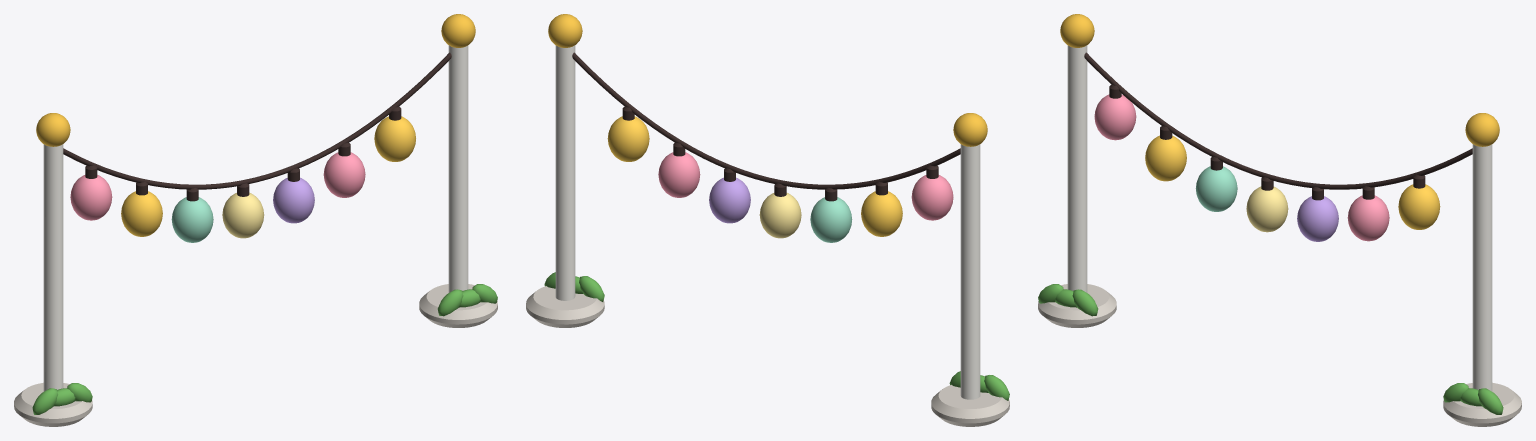
File: string_lights.fbx
The picture shows the model from 3 angles, left to right: view 1: azimuth 30°, elevation 25°; view 2: azimuth 150°, elevation 25°; view 3: azimuth 330°, elevation 25°; orthographic projection.
Visible parts, largest first — view 1: string_lights_White, string_lights_Stone, string_lights_Dark, string_lights_Yellow, string_lights_Pink, string_lights_Green, string_lights_Gold, string_lights_Glow, string_lights_Lilac, string_lights_Mint; view 2: string_lights_White, string_lights_Stone, string_lights_Dark, string_lights_Pink, string_lights_Yellow, string_lights_Gold, string_lights_Lilac, string_lights_Glow, string_lights_Mint, string_lights_Green; view 3: string_lights_White, string_lights_Stone, string_lights_Dark, string_lights_Yellow, string_lights_Pink, string_lights_Green, string_lights_Gold, string_lights_Glow, string_lights_Lilac, string_lights_Mint.
Boxes of the visible parts, x1=… form: string_lights_White: x1=43, y1=45, x2=468, y2=391; string_lights_Stone: x1=14, y1=284, x2=497, y2=426; string_lights_Dark: x1=63, y1=52, x2=451, y2=201; string_lights_Yellow: x1=121, y1=116, x2=415, y2=236; string_lights_Pink: x1=70, y1=152, x2=365, y2=220; string_lights_Green: x1=32, y1=284, x2=497, y2=414; string_lights_Gold: x1=36, y1=14, x2=475, y2=146; string_lights_Glow: x1=222, y1=192, x2=264, y2=238; string_lights_Lilac: x1=273, y1=177, x2=314, y2=223; string_lights_Mint: x1=171, y1=197, x2=213, y2=242; string_lights_White: x1=555, y1=45, x2=980, y2=399; string_lights_Stone: x1=526, y1=286, x2=1009, y2=426; string_lights_Dark: x1=572, y1=52, x2=960, y2=201; string_lights_Pink: x1=658, y1=152, x2=953, y2=220; string_lights_Yellow: x1=607, y1=116, x2=902, y2=236; string_lights_Gold: x1=548, y1=14, x2=987, y2=146; string_lights_Lilac: x1=709, y1=177, x2=750, y2=223; string_lights_Glow: x1=759, y1=193, x2=801, y2=238; string_lights_Mint: x1=810, y1=197, x2=852, y2=242; string_lights_Green: x1=544, y1=272, x2=1009, y2=400; string_lights_White: x1=1067, y1=45, x2=1492, y2=391; string_lights_Stone: x1=1038, y1=284, x2=1521, y2=426; string_lights_Dark: x1=1084, y1=52, x2=1472, y2=200; string_lights_Yellow: x1=1145, y1=135, x2=1440, y2=229; string_lights_Pink: x1=1094, y1=94, x2=1389, y2=241; string_lights_Green: x1=1038, y1=284, x2=1503, y2=414; string_lights_Gold: x1=1060, y1=14, x2=1499, y2=146; string_lights_Glow: x1=1246, y1=186, x2=1288, y2=232; string_lights_Lilac: x1=1297, y1=196, x2=1338, y2=241; string_lights_Mint: x1=1195, y1=166, x2=1237, y2=211.
Size of the model in its own units: 44.4 by 26.8 by 6.4.
